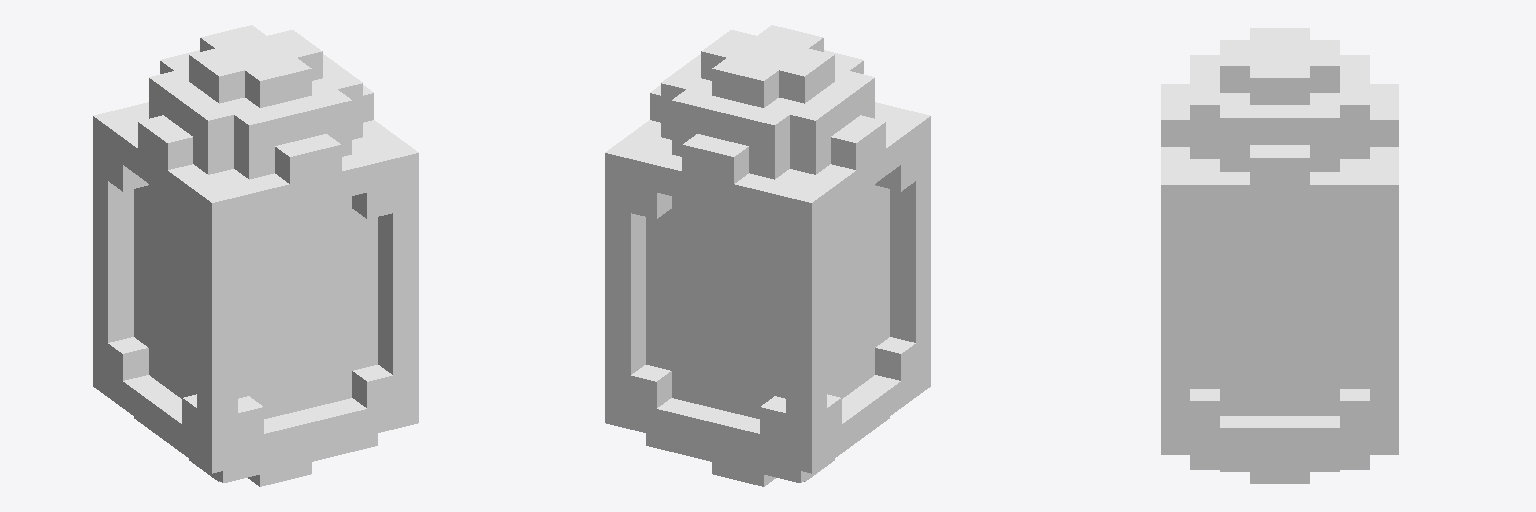
Rendered from flashlight1.obj.
The picture shows the model from 3 angles: view 1: azimuth 30°, elevation 25°; view 2: azimuth 150°, elevation 25°; view 3: azimuth 270°, elevation 25°; orthographic projection.
Visible parts, largest first — view 1: object 1; view 2: object 1; view 3: object 1.
Part boxes in pixels (x1,y1,x2,y2): object 1: (93,25,418,486); object 1: (605,25,930,486); object 1: (1161,28,1398,483).
Bounding box in the file's own units: 0.8 × 1.5 × 0.8.